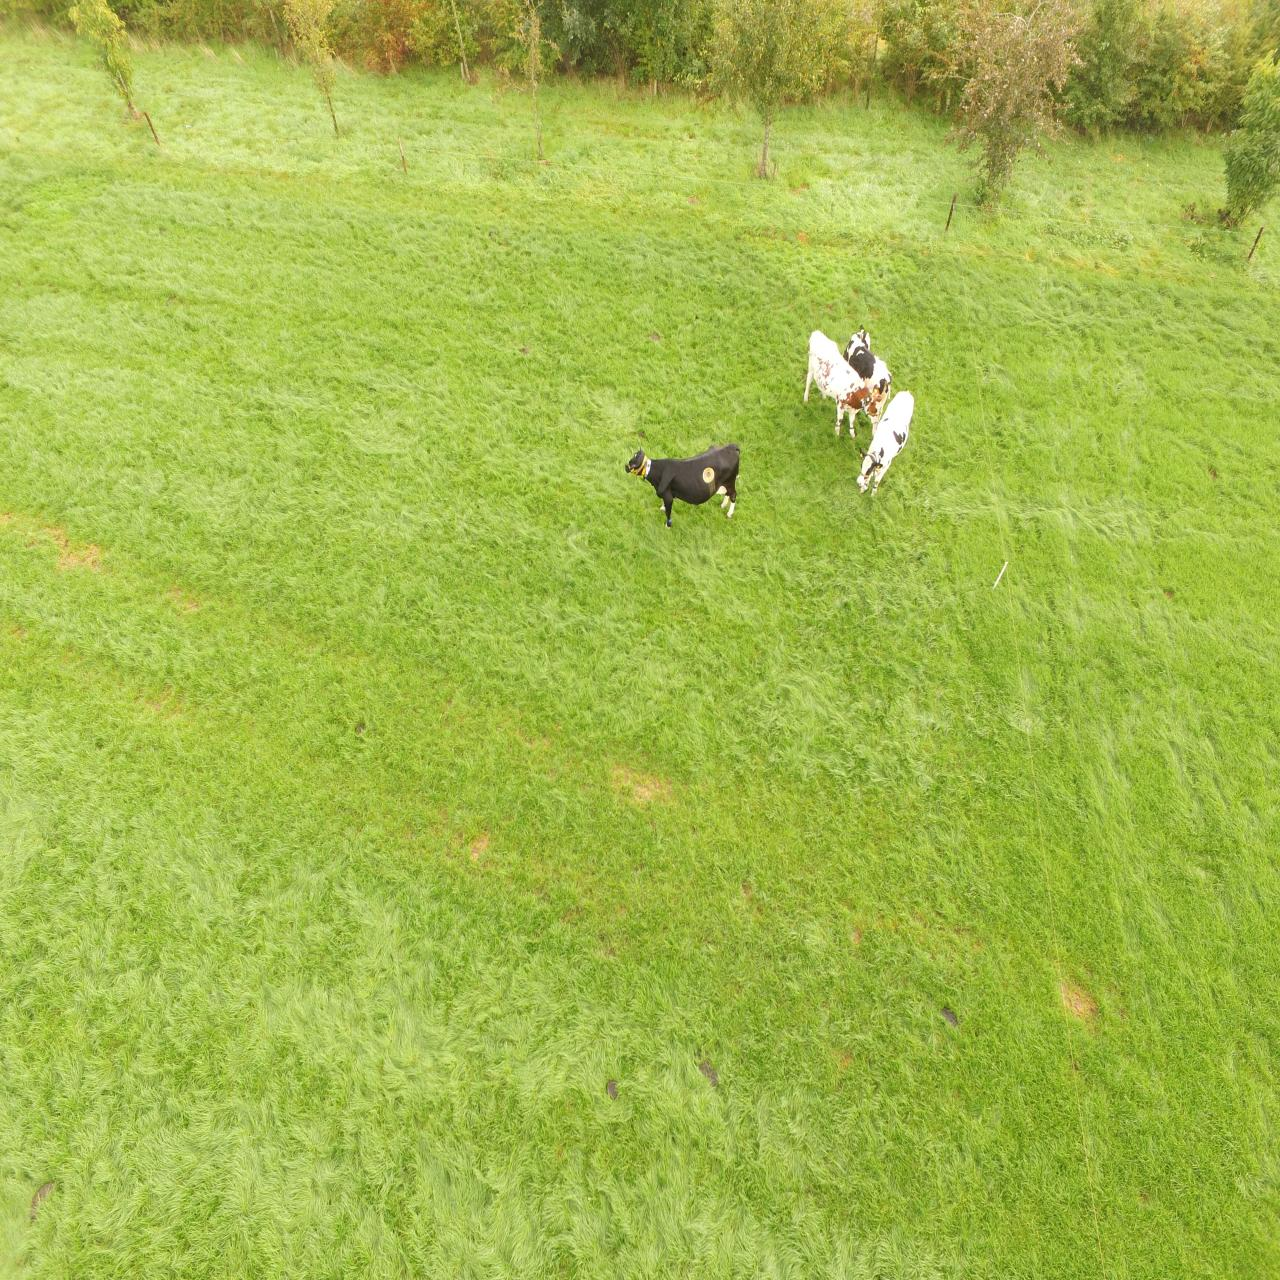cow: (624, 441, 741, 527), (802, 328, 880, 443), (858, 390, 913, 499), (845, 322, 892, 408)
